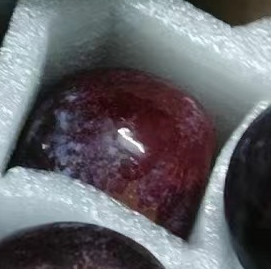plum_B: (9, 68, 220, 243)
